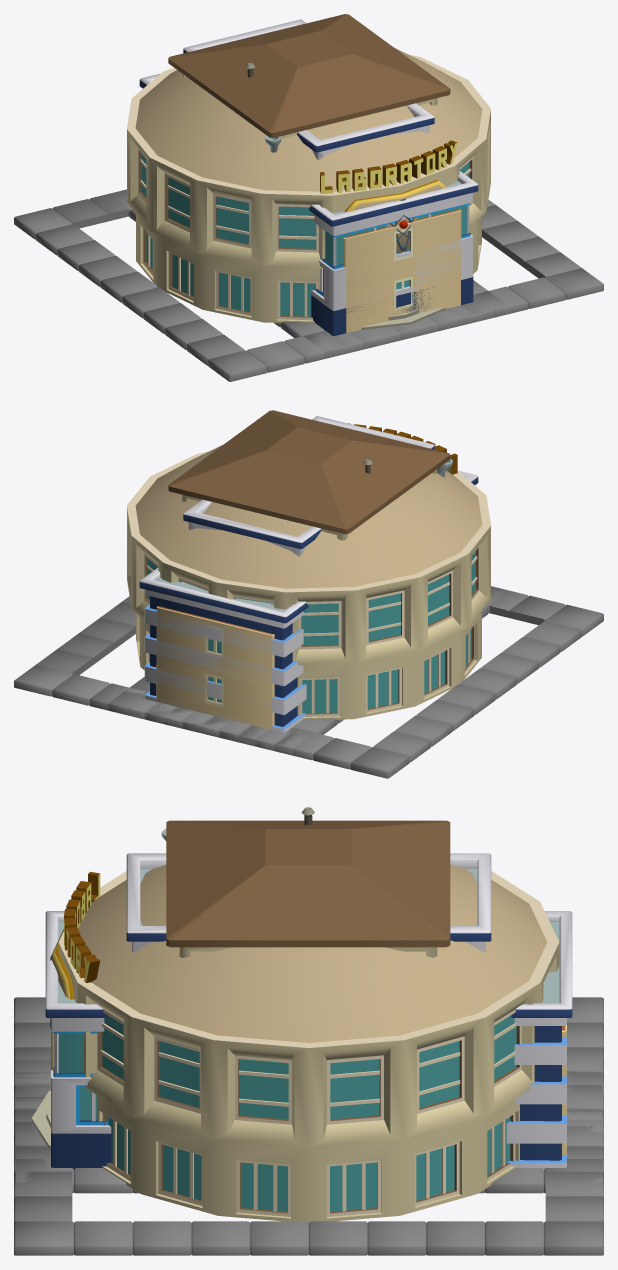
The model's file is Buildings.fbx.
The picture shows the model from 3 angles, top to bottom: view 1: azimuth 30°, elevation 25°; view 2: azimuth 150°, elevation 25°; view 3: azimuth 270°, elevation 25°; orthographic projection. The views are drawn at different scales.
Parts seen in each view (by area): view 1: Laboratory, Laboratory_plain, CivilianHOUSE, Police, School, Police_plain, School_plain; view 2: Laboratory, Laboratory_plain, CivilianHOUSE, Police, School, School_plain, Police_plain; view 3: Laboratory, CivilianHOUSE, Laboratory_plain, Police, School_plain, Police_plain.
Part boxes in pixels (x1,y1,x2,y2): Laboratory: [127, 48, 490, 329]; Laboratory_plain: [14, 190, 603, 381]; CivilianHOUSE: [168, 14, 450, 152]; Police: [139, 19, 478, 335]; School: [343, 209, 461, 332]; Police_plain: [109, 190, 504, 349]; School_plain: [111, 189, 508, 358]; Laboratory: [127, 423, 490, 719]; Laboratory_plain: [14, 586, 603, 778]; CivilianHOUSE: [168, 410, 452, 540]; Police: [139, 416, 478, 732]; School: [156, 606, 274, 729]; School_plain: [108, 586, 507, 755]; Police_plain: [108, 607, 488, 754]; Laboratory: [31, 864, 559, 1222]; CivilianHOUSE: [161, 807, 450, 957]; Laboratory_plain: [14, 997, 603, 1255]; Police: [45, 853, 572, 1169]; School_plain: [14, 1059, 603, 1193]; Police_plain: [16, 1059, 137, 1193].
Bounding box in the file's own units: 16 × 9 × 16.
